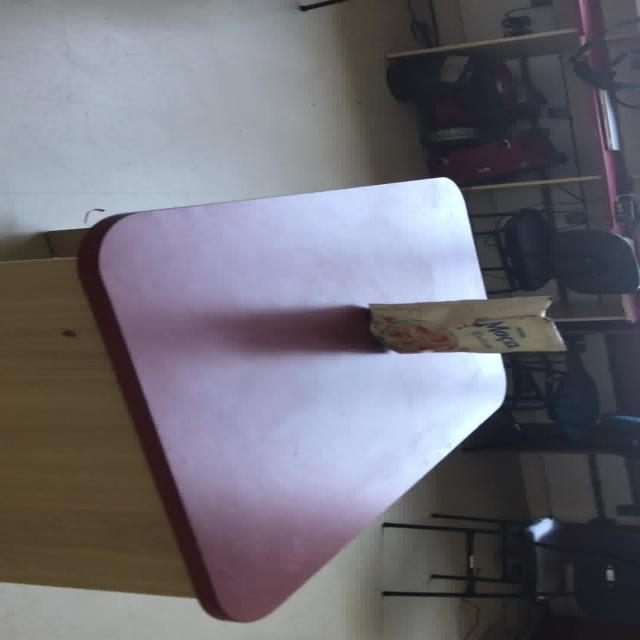corn flakes: (74, 176, 510, 622), (366, 294, 566, 354)
